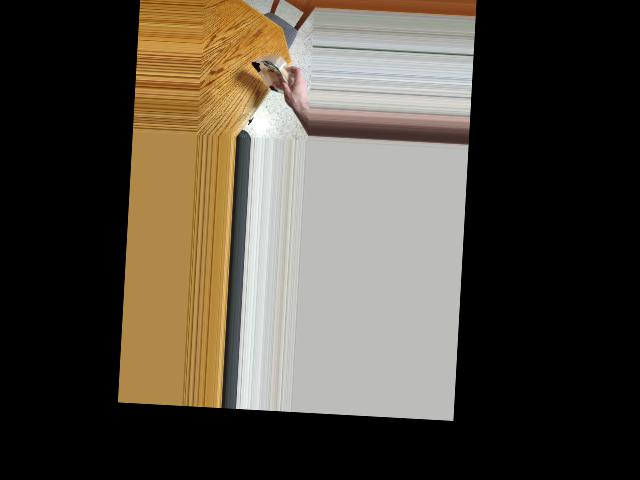cheese: (249, 46, 293, 106)
